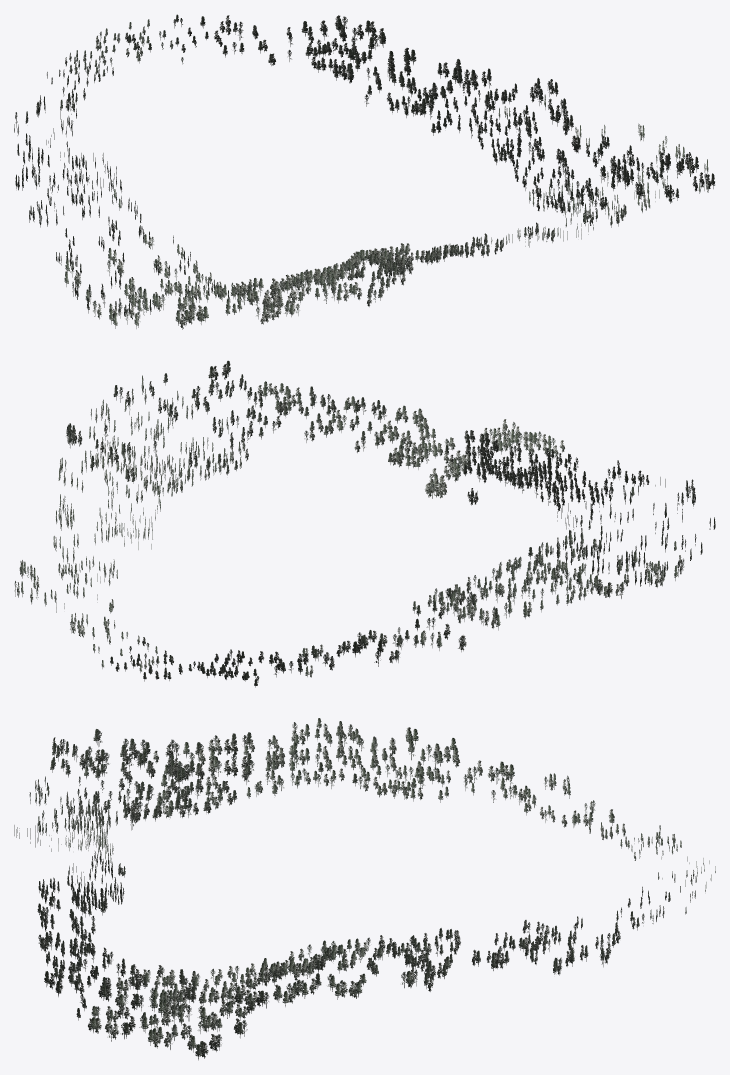
3 views of the same model, one above another, from view 1: azimuth 30°, elevation 25°; view 2: azimuth 150°, elevation 25°; view 3: azimuth 270°, elevation 25° (orthographic). The views are drawn at different scales.
Visible parts, largest first — view 1: mesh1, mesh0, mesh2; view 2: mesh0, mesh1, mesh2; view 3: mesh1, mesh0, mesh2.
Boxes of the visible parts, bbox=[...] form: mesh1: bbox=[14, 14, 714, 328]; mesh0: bbox=[17, 15, 711, 329]; mesh2: bbox=[15, 16, 708, 327]; mesh0: bbox=[17, 364, 695, 680]; mesh1: bbox=[21, 360, 715, 687]; mesh2: bbox=[14, 382, 710, 682]; mesh1: bbox=[16, 718, 715, 1060]; mesh0: bbox=[14, 724, 705, 1058]; mesh2: bbox=[17, 722, 709, 1050].
Bounding box in the file's own units: 713 × 69.16 × 698.
